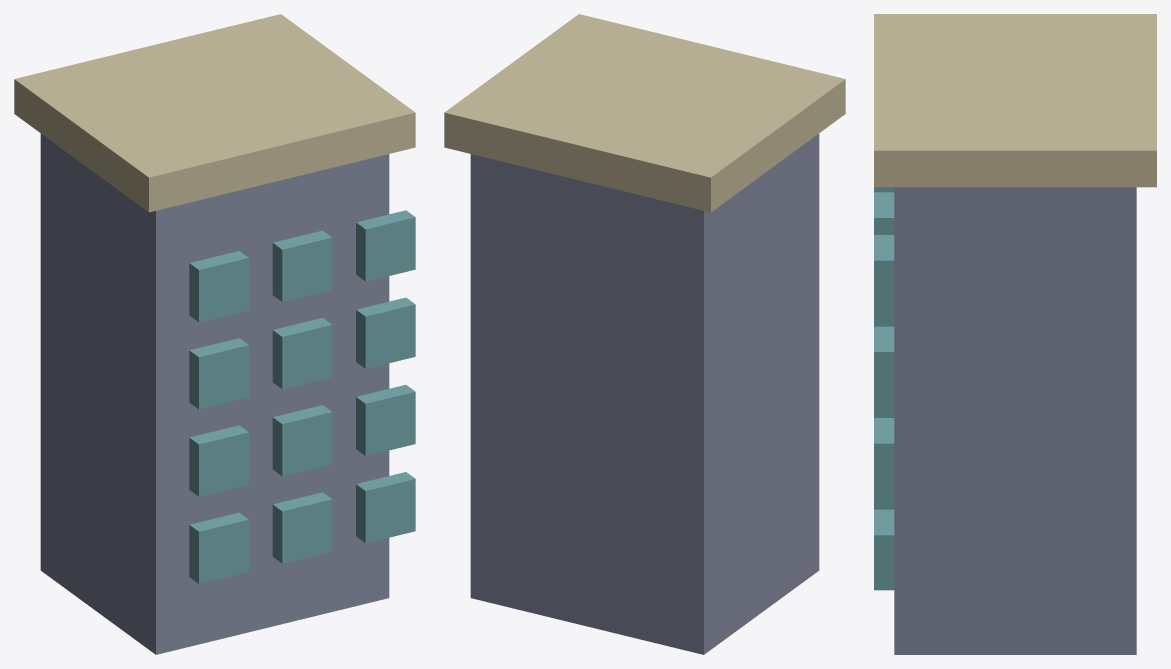
Rendered from aerospace-11.glb.
The picture shows the model from 3 angles, left to right: view 1: azimuth 30°, elevation 25°; view 2: azimuth 150°, elevation 25°; view 3: azimuth 270°, elevation 25°; orthographic projection. The views are drawn at different scales.
Parts seen in each view (by area): view 1: Launch tower; view 2: Launch tower; view 3: Launch tower.
Part boxes in pixels (x1,y1,x2,y2): Launch tower: (14,14,415,654); Launch tower: (444,14,845,654); Launch tower: (874,14,1156,654).
Bounding box in the file's own units: 1.28 × 2.24 × 1.12.
